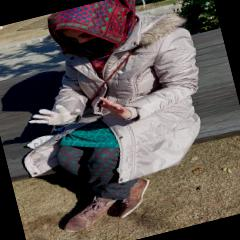gloved: (26, 98, 84, 136)
not-gloved: (97, 90, 132, 125)
